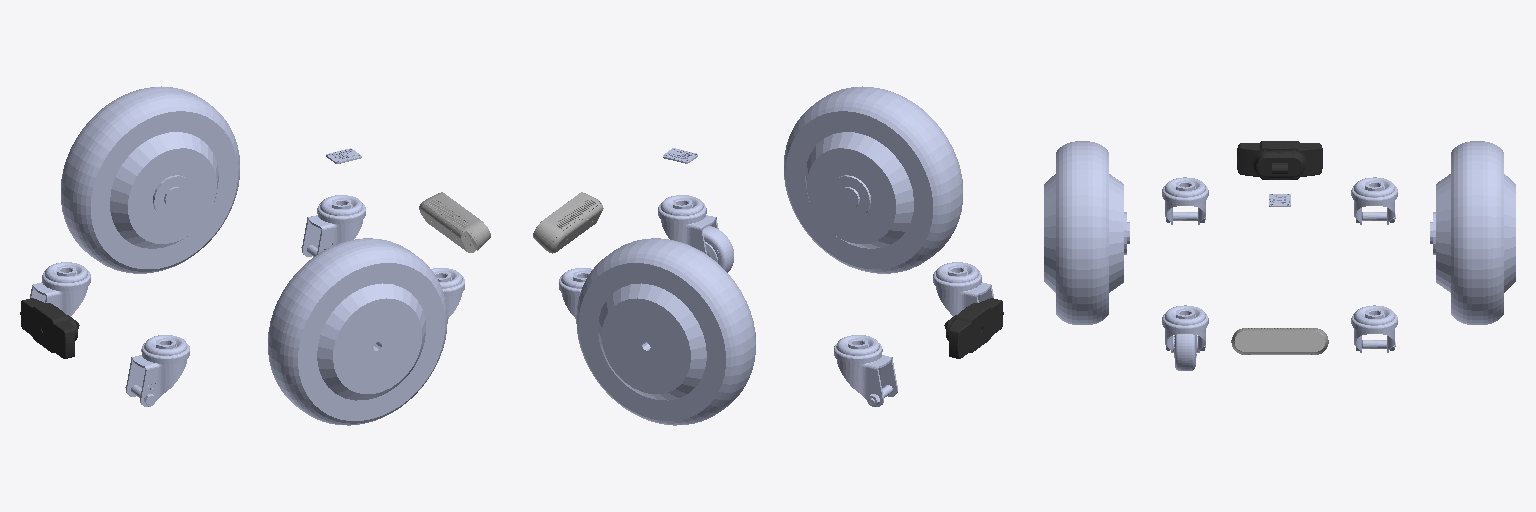
robot.urdf — sdr100_description:
<?xml version="1.0" encoding="utf-8"?>
<!-- This URDF was automatically created by SolidWorks to URDF Exporter! Originally created by [author] ([email redacted]) 
     Commit Version: 1.5.1-0-g916b5db  Build Version: 1.5.7152.31018
     For more information, please see http://wiki.ros.org/sw_urdf_exporter -->
<robot
  name="sdr100_description">
  <link
    name="base_link">
    <inertial>
      <origin
        xyz="-0.027147 0.0017466 0.18466"
        rpy="0 0 0" />
      <mass
        value="14.005" />
      <inertia
        ixx="0.2337"
        ixy="-6.8938E-05"
        ixz="-0.0016382"
        iyy="0.27902"
        iyz="-0.001818"
        izz="0.34815" />
    </inertial>
    <visual>
      <origin
        xyz="0 0 0"
        rpy="0 0 0" />
      <geometry>
        <mesh
          filename="package://sdr100_description/meshes/base_link.STL" />
      </geometry>
      <material
        name="">
        <color
          rgba="0.79216 0.81961 0.93333 1" />
      </material>
    </visual>
    <collision>
      <origin
        xyz="0 0 0"
        rpy="0 0 0" />
      <geometry>
        <mesh
          filename="package://sdr100_description/meshes/base_link.STL" />
      </geometry>
    </collision>
  </link>
  <link
    name="wheel_left_link">
    <inertial>
      <origin
        xyz="-6.7556E-10 -0.0009492 -1.3878E-17"
        rpy="0 0 0" />
      <mass
        value="1.2538" />
      <inertia
        ixx="0.0023229"
        ixy="3.5309E-10"
        ixz="-2.0171E-26"
        iyy="0.003868"
        iyz="2.7319E-20"
        izz="0.0023229" />
    </inertial>
    <visual>
      <origin
        xyz="0 0 0"
        rpy="0 0 0" />
      <geometry>
        <mesh
          filename="package://sdr100_description/meshes/wheel_left_link.STL" />
      </geometry>
      <material
        name="">
        <color
          rgba="0.79216 0.81961 0.93333 1" />
      </material>
    </visual>
    <collision>
      <origin
        xyz="0 0 0"
        rpy="0 0 0" />
      <geometry>
        <mesh
          filename="package://sdr100_description/meshes/wheel_left_link.STL" />
      </geometry>
    </collision>
  </link>
  <joint
    name="wheel_left_joint"
    type="continuous">
    <origin
      xyz="0.000285 0.1826 0.085"
      rpy="0 0 0" />
    <parent
      link="base_link" />
    <child
      link="wheel_left_link" />
    <axis
      xyz="0 -1 0" />
  </joint>
  <link
    name="caster_front_left_arm_link">
    <inertial>
      <origin
        xyz="-0.00649482672502799 0.000107163232262494 -0.0157954586591997"
        rpy="0 0 0" />
      <mass
        value="0.0193614075360235" />
      <inertia
        ixx="6.77325076266181E-06"
        ixy="3.83386204811024E-08"
        ixz="-2.48046541785919E-06"
        iyy="7.75858059543586E-06"
        iyz="5.80212768238095E-08"
        izz="6.45129952483067E-06" />
    </inertial>
    <visual>
      <origin
        xyz="0 0 0"
        rpy="0 0 0" />
      <geometry>
        <mesh
          filename="package://sdr100_description/meshes/caster_front_left_arm_link.STL" />
      </geometry>
      <material
        name="">
        <color
          rgba="0.792156862745098 0.819607843137255 0.933333333333333 1" />
      </material>
    </visual>
    <collision>
      <origin
        xyz="0 0 0"
        rpy="0 0 0" />
      <geometry>
        <mesh
          filename="package://sdr100_description/meshes/caster_front_left_arm_link.STL" />
      </geometry>
    </collision>
  </link>
  <joint
    name="caster_front_left_arm_joint"
    type="continuous">
    <origin
      xyz="0.14 0.0875 0.069065"
      rpy="0 0 0" />
    <parent
      link="base_link" />
    <child
      link="caster_front_left_arm_link" />
    <axis
      xyz="0 0 1" />
  </joint>
  <link
    name="caster_front_left_wheel_link">
    <inertial>
      <origin
        xyz="-3.62185296076678E-06 -1.05965067276337E-09 -1.10000967210033E-07"
        rpy="0 0 0" />
      <mass
        value="0.0299454261301273" />
      <inertia
        ixx="5.62799913174224E-06"
        ixy="3.22789619384136E-13"
        ixz="1.20201132501664E-11"
        iyy="9.66736983771267E-06"
        iyz="7.91227262205239E-09"
        izz="5.62772662909753E-06" />
    </inertial>
    <visual>
      <origin
        xyz="0 0 0"
        rpy="0 0 0" />
      <geometry>
        <mesh
          filename="package://sdr100_description/meshes/caster_front_left_wheel_link.STL" />
      </geometry>
      <material
        name="">
        <color
          rgba="0.792156862745098 0.819607843137255 0.933333333333333 1" />
      </material>
    </visual>
    <collision>
      <origin
        xyz="0 0 0"
        rpy="0 0 0" />
      <geometry>
        <mesh
          filename="package://sdr100_description/meshes/caster_front_left_wheel_link.STL" />
      </geometry>
    </collision>
  </link>
  <joint
    name="caster_front_left_wheel_joint"
    type="continuous">
    <origin
      xyz="-0.025 0 -0.044"
      rpy="0 0 0" />
    <parent
      link="caster_front_left_arm_link" />
    <child
      link="caster_front_left_wheel_link" />
    <axis
      xyz="0 -1 0" />
  </joint>
  <link
    name="caster_rear_left_arm_link">
    <inertial>
      <origin
        xyz="-0.00649482672630869 0.000107163230379348 -0.0157954586595195"
        rpy="0 0 0" />
      <mass
        value="0.0193614075395788" />
      <inertia
        ixx="6.77325076308618E-06"
        ixy="3.83386202093924E-08"
        ixz="-2.48046541788534E-06"
        iyy="7.7585805956462E-06"
        iyz="5.80212767813337E-08"
        izz="6.45129952541281E-06" />
    </inertial>
    <visual>
      <origin
        xyz="0 0 0"
        rpy="0 0 0" />
      <geometry>
        <mesh
          filename="package://sdr100_description/meshes/caster_rear_left_arm_link.STL" />
      </geometry>
      <material
        name="">
        <color
          rgba="0.792156862745098 0.819607843137255 0.933333333333333 1" />
      </material>
    </visual>
    <collision>
      <origin
        xyz="0 0 0"
        rpy="0 0 0" />
      <geometry>
        <mesh
          filename="package://sdr100_description/meshes/caster_rear_left_arm_link.STL" />
      </geometry>
    </collision>
  </link>
  <joint
    name="caster_rear_left_arm_joint"
    type="continuous">
    <origin
      xyz="-0.14 0.0875 0.069065"
      rpy="0 0 0" />
    <parent
      link="base_link" />
    <child
      link="caster_rear_left_arm_link" />
    <axis
      xyz="0 0 1" />
  </joint>
  <link
    name="caster_rear_left_wheel_link">
    <inertial>
      <origin
        xyz="-3.62186601504666E-06 -1.11416892378813E-09 -1.09964967201504E-07"
        rpy="0 0 0" />
      <mass
        value="0.0299454261504666" />
      <inertia
        ixx="5.627999127985E-06"
        ixy="3.07713757024694E-13"
        ixz="1.20307407629901E-11"
        iyy="9.66736983458393E-06"
        iyz="7.91226945256632E-09"
        izz="5.62772663371416E-06" />
    </inertial>
    <visual>
      <origin
        xyz="0 0 0"
        rpy="0 0 0" />
      <geometry>
        <mesh
          filename="package://sdr100_description/meshes/caster_rear_left_wheel_link.STL" />
      </geometry>
      <material
        name="">
        <color
          rgba="0.792156862745098 0.819607843137255 0.933333333333333 1" />
      </material>
    </visual>
    <collision>
      <origin
        xyz="0 0 0"
        rpy="0 0 0" />
      <geometry>
        <mesh
          filename="package://sdr100_description/meshes/caster_rear_left_wheel_link.STL" />
      </geometry>
    </collision>
  </link>
  <joint
    name="caster_rear_left_wheel_joint"
    type="continuous">
    <origin
      xyz="-0.025 0 -0.044"
      rpy="0 0 0" />
    <parent
      link="caster_rear_left_arm_link" />
    <child
      link="caster_rear_left_wheel_link" />
    <axis
      xyz="0 -1 0" />
  </joint>
  <link
    name="wheel_right_link">
    <inertial>
      <origin
        xyz="6.75560992726126E-10 0.000949199764109038 1.38777878078145E-17"
        rpy="0 0 0" />
      <mass
        value="1.25378639817448" />
      <inertia
        ixx="0.00232288623035426"
        ixy="3.53093696035845E-10"
        ixz="2.01706527474568E-26"
        iyy="0.00386801315934892"
        iyz="-2.73191471120094E-20"
        izz="0.00232288623035426" />
    </inertial>
    <visual>
      <origin
        xyz="0 0 0"
        rpy="0 0 0" />
      <geometry>
        <mesh
          filename="package://sdr100_description/meshes/wheel_right_link.STL" />
      </geometry>
      <material
        name="">
        <color
          rgba="0.792156862745098 0.819607843137255 0.933333333333333 1" />
      </material>
    </visual>
    <collision>
      <origin
        xyz="0 0 0"
        rpy="0 0 0" />
      <geometry>
        <mesh
          filename="package://sdr100_description/meshes/wheel_right_link.STL" />
      </geometry>
    </collision>
  </link>
  <joint
    name="wheel_right_joint"
    type="continuous">
    <origin
      xyz="0.000285 -0.1826 0.085"
      rpy="0 0 0" />
    <parent
      link="base_link" />
    <child
      link="wheel_right_link" />
    <axis
      xyz="0 1 0" />
  </joint>
  <link
    name="caster_front_right_arm_link">
    <inertial>
      <origin
        xyz="-0.00649482671553142 0.000107163244502592 -0.0157954586565046"
        rpy="0 0 0" />
      <mass
        value="0.0193614075129611" />
      <inertia
        ixx="6.7732507598518E-06"
        ixy="3.83386225031644E-08"
        ixz="-2.48046541754733E-06"
        iyy="7.75858059364342E-06"
        iyz="5.80212772352693E-08"
        izz="6.45129952065998E-06" />
    </inertial>
    <visual>
      <origin
        xyz="0 0 0"
        rpy="0 0 0" />
      <geometry>
        <mesh
          filename="package://sdr100_description/meshes/caster_front_right_arm_link.STL" />
      </geometry>
      <material
        name="">
        <color
          rgba="0.792156862745098 0.819607843137255 0.933333333333333 1" />
      </material>
    </visual>
    <collision>
      <origin
        xyz="0 0 0"
        rpy="0 0 0" />
      <geometry>
        <mesh
          filename="package://sdr100_description/meshes/caster_front_right_arm_link.STL" />
      </geometry>
    </collision>
  </link>
  <joint
    name="caster_front_right_arm_joint"
    type="continuous">
    <origin
      xyz="0.14 -0.0875 0.069065"
      rpy="0 0 0" />
    <parent
      link="base_link" />
    <child
      link="caster_front_right_arm_link" />
    <axis
      xyz="0 0 1" />
  </joint>
  <link
    name="caster_front_right_wheel_link">
    <inertial>
      <origin
        xyz="-3.6218529607529E-06 -1.05965065888558E-09 -1.10000967178808E-07"
        rpy="0 0 0" />
      <mass
        value="0.0299454261301274" />
      <inertia
        ixx="5.62799913174226E-06"
        ixy="3.22789623759125E-13"
        ixz="1.20201132514845E-11"
        iyy="9.66736983771271E-06"
        iyz="7.91227262205017E-09"
        izz="5.62772662909755E-06" />
    </inertial>
    <visual>
      <origin
        xyz="0 0 0"
        rpy="0 0 0" />
      <geometry>
        <mesh
          filename="package://sdr100_description/meshes/caster_front_right_wheel_link.STL" />
      </geometry>
      <material
        name="">
        <color
          rgba="0.792156862745098 0.819607843137255 0.933333333333333 1" />
      </material>
    </visual>
    <collision>
      <origin
        xyz="0 0 0"
        rpy="0 0 0" />
      <geometry>
        <mesh
          filename="package://sdr100_description/meshes/caster_front_right_wheel_link.STL" />
      </geometry>
    </collision>
  </link>
  <joint
    name="caster_front_right_wheel_joint"
    type="continuous">
    <origin
      xyz="-0.025 0 -0.044"
      rpy="0 0 0" />
    <parent
      link="caster_front_right_arm_link" />
    <child
      link="caster_front_right_wheel_link" />
    <axis
      xyz="0 -1 0" />
  </joint>
  <link
    name="caster_rear_right_arm_link">
    <inertial>
      <origin
        xyz="-0.00649482672507373 0.0001071632322064 -0.0157954586592144"
        rpy="0 0 0" />
      <mass
        value="0.0193614075361476" />
      <inertia
        ixx="6.77325076267316E-06"
        ixy="3.83386204727856E-08"
        ixz="-2.48046541786068E-06"
        iyy="7.75858059544428E-06"
        iyz="5.80212768219384E-08"
        izz="6.45129952484793E-06" />
    </inertial>
    <visual>
      <origin
        xyz="0 0 0"
        rpy="0 0 0" />
      <geometry>
        <mesh
          filename="package://sdr100_description/meshes/caster_rear_right_arm_link.STL" />
      </geometry>
      <material
        name="">
        <color
          rgba="0.792156862745098 0.819607843137255 0.933333333333333 1" />
      </material>
    </visual>
    <collision>
      <origin
        xyz="0 0 0"
        rpy="0 0 0" />
      <geometry>
        <mesh
          filename="package://sdr100_description/meshes/caster_rear_right_arm_link.STL" />
      </geometry>
    </collision>
  </link>
  <joint
    name="caster_rear_right_arm_joint"
    type="continuous">
    <origin
      xyz="-0.14 -0.0875 0.069065"
      rpy="0 0 0" />
    <parent
      link="base_link" />
    <child
      link="caster_rear_right_arm_link" />
    <axis
      xyz="0 0 1" />
  </joint>
  <link
    name="caster_rear_right_wheel_link">
    <inertial>
      <origin
        xyz="-3.62186601504666E-06 -1.11416892378813E-09 -1.09964967145992E-07"
        rpy="0 0 0" />
      <mass
        value="0.0299454261504666" />
      <inertia
        ixx="5.62799912798501E-06"
        ixy="3.07713759603956E-13"
        ixz="1.20307407653522E-11"
        iyy="9.66736983458394E-06"
        iyz="7.91226945256643E-09"
        izz="5.62772663371417E-06" />
    </inertial>
    <visual>
      <origin
        xyz="0 0 0"
        rpy="0 0 0" />
      <geometry>
        <mesh
          filename="package://sdr100_description/meshes/caster_rear_right_wheel_link.STL" />
      </geometry>
      <material
        name="">
        <color
          rgba="0.792156862745098 0.819607843137255 0.933333333333333 1" />
      </material>
    </visual>
    <collision>
      <origin
        xyz="0 0 0"
        rpy="0 0 0" />
      <geometry>
        <mesh
          filename="package://sdr100_description/meshes/caster_rear_right_wheel_link.STL" />
      </geometry>
    </collision>
  </link>
  <joint
    name="caster_rear_right_wheel_joint"
    type="continuous">
    <origin
      xyz="-0.025 0 -0.044"
      rpy="0 0 0" />
    <parent
      link="caster_rear_right_arm_link" />
    <child
      link="caster_rear_right_wheel_link" />
    <axis
      xyz="0 -1 0" />
  </joint>
  <link
    name="lidar_link">
    <inertial>
      <origin
        xyz="-0.000148098936093097 -3.20589061074877E-06 -0.0125826292828435"
        rpy="0 0 0" />
      <mass
        value="0.0481184252470374" />
      <inertia
        ixx="3.45484471926661E-05"
        ixy="-2.64745439730844E-09"
        ixz="-7.2542289688968E-08"
        iyy="3.46541300559693E-05"
        iyz="-1.62784619966956E-09"
        izz="5.23974422205502E-05" />
    </inertial>
    <visual>
      <origin
        xyz="0 0 0"
        rpy="0 0 0" />
      <geometry>
        <mesh
          filename="package://sdr100_description/meshes/lidar_link.STL" />
      </geometry>
      <material
        name="">
        <color
          rgba="0.498039215686275 0.498039215686275 0.498039215686275 1" />
      </material>
    </visual>
    <collision>
      <origin
        xyz="0 0 0"
        rpy="0 0 0" />
      <geometry>
        <mesh
          filename="package://sdr100_description/meshes/lidar_link.STL" />
      </geometry>
    </collision>
  </link>
  <joint
    name="lidar_joint"
    type="fixed">
    <origin
      xyz="0 0 0.29442"
      rpy="0 0 0" />
    <parent
      link="base_link" />
    <child
      link="lidar_link" />
    <axis
      xyz="0 0 0" />
  </joint>
  <link
    name="depthcam_link">
    <inertial>
      <origin
        xyz="0.00150773539014118 0.00140604320859637 0.0124766080720145"
        rpy="0 0 0" />
      <mass
        value="0.0364722960761443" />
      <inertia
        ixx="2.34030027480876E-05"
        ixy="2.10299133958588E-07"
        ixz="1.01558544663176E-08"
        iyy="3.5060662845294E-06"
        iyz="1.71385186514591E-09"
        izz="2.36116372449809E-05" />
    </inertial>
    <visual>
      <origin
        xyz="0 0 0"
        rpy="0 0 0" />
      <geometry>
        <mesh
          filename="package://sdr100_description/meshes/depthcam_link.STL" />
      </geometry>
      <material
        name="">
        <color
          rgba="0.701960784313725 0.701960784313725 0.701960784313725 1" />
      </material>
    </visual>
    <collision>
      <origin
        xyz="0 0 0"
        rpy="0 0 0" />
      <geometry>
        <mesh
          filename="package://sdr100_description/meshes/depthcam_link.STL" />
      </geometry>
    </collision>
  </link>
  <joint
    name="depthcam_joint"
    type="fixed">
    <origin
      xyz="0.20804 0 0.057456"
      rpy="0 -0.43633 0" />
    <parent
      link="base_link" />
    <child
      link="depthcam_link" />
    <axis
      xyz="0 0 0" />
  </joint>
  <link
    name="rgb_camera_link">
    <inertial>
      <origin
        xyz="-4.96614485655883E-10 -3.57408547202454E-13 -0.0100253875802096"
        rpy="0 0 0" />
      <mass
        value="0.0605927782252049" />
      <inertia
        ixx="6.99191996508856E-06"
        ixy="-1.38979846014596E-11"
        ixz="4.60006097227063E-13"
        iyy="2.54302596557141E-05"
        iyz="5.09059527310496E-17"
        izz="2.70334159831627E-05" />
    </inertial>
    <visual>
      <origin
        xyz="0 0 0"
        rpy="0 0 0" />
      <geometry>
        <mesh
          filename="package://sdr100_description/meshes/rgb_camera_link.STL" />
      </geometry>
      <material
        name="">
        <color
          rgba="0.250980392156863 0.250980392156863 0.250980392156863 1" />
      </material>
    </visual>
    <collision>
      <origin
        xyz="0 0 0"
        rpy="0 0 0" />
      <geometry>
        <mesh
          filename="package://sdr100_description/meshes/rgb_camera_link.STL" />
      </geometry>
    </collision>
  </link>
  <joint
    name="rgb_camera_joint"
    type="fixed">
    <origin
      xyz="-0.21467 0 0.063165"
      rpy="-1.5708 0 1.5708" />
    <parent
      link="base_link" />
    <child
      link="rgb_camera_link" />
    <axis
      xyz="0 0 0" />
  </joint>
  <link
    name="imu_link">
    <inertial>
      <origin
        xyz="-6.93505865298899E-05 2.10656642645062E-05 -0.00172272577964397"
        rpy="0 0 0" />
      <mass
        value="0.000911356888660494" />
      <inertia
        ixx="2.85410348210609E-08"
        ixy="-2.22197427857067E-10"
        ixz="7.87903579180148E-11"
        iyy="4.99346433608486E-08"
        iyz="-4.13194761846756E-11"
        izz="7.78569805080493E-08" />
    </inertial>
    <visual>
      <origin
        xyz="0 0 0"
        rpy="0 0 0" />
      <geometry>
        <mesh
          filename="package://sdr100_description/meshes/imu_link.STL" />
      </geometry>
      <material
        name="">
        <color
          rgba="0.792156862745098 0.819607843137255 0.933333333333333 1" />
      </material>
    </visual>
    <collision>
      <origin
        xyz="0 0 0"
        rpy="0 0 0" />
      <geometry>
        <mesh
          filename="package://sdr100_description/meshes/imu_link.STL" />
      </geometry>
    </collision>
  </link>
  <joint
    name="imu_joint"
    type="fixed">
    <origin
      xyz="0.0915 -0.0003 0.16272"
      rpy="0 0 0" />
    <parent
      link="base_link" />
    <child
      link="imu_link" />
    <axis
      xyz="0 0 0" />
  </joint>
</robot>

--- Facts derived from the render (not from the file) ---
Views: 3 orthographic renders of the robot side by side, from view 1: azimuth 30°, elevation 25°; view 2: azimuth 150°, elevation 25°; view 3: azimuth 270°, elevation 25°.
Robot: sdr100_description — 15 links, 14 joints (10 continuous, 4 fixed); root link base_link; default pose: every joint at zero.
Visible links, largest first — view 1: wheel_right_link, wheel_left_link, caster_rear_right_arm_link, caster_front_left_arm_link, rgb_camera_link, depthcam_link, caster_rear_left_arm_link, caster_front_right_arm_link; view 2: wheel_left_link, wheel_right_link, caster_rear_left_arm_link, rgb_camera_link, depthcam_link, caster_front_right_arm_link, caster_rear_right_arm_link, caster_front_right_wheel_link, caster_front_left_arm_link; view 3: wheel_left_link, wheel_right_link, rgb_camera_link, depthcam_link, caster_rear_left_arm_link, caster_front_left_arm_link, caster_rear_right_arm_link, caster_front_right_arm_link, caster_front_right_wheel_link.
Link boxes in pixels (<box>): wheel_right_link: <box>268,238,447,425</box>; wheel_left_link: <box>61,86,239,273</box>; caster_rear_right_arm_link: <box>125,335,189,406</box>; caster_front_left_arm_link: <box>301,195,365,256</box>; rgb_camera_link: <box>20,298,79,358</box>; depthcam_link: <box>419,192,490,252</box>; caster_rear_left_arm_link: <box>30,262,90,316</box>; caster_front_right_arm_link: <box>431,268,464,318</box>; wheel_left_link: <box>576,238,755,425</box>; wheel_right_link: <box>784,86,962,273</box>; caster_rear_left_arm_link: <box>834,335,897,406</box>; rgb_camera_link: <box>944,298,1003,358</box>; depthcam_link: <box>533,192,603,253</box>; caster_front_right_arm_link: <box>658,195,718,254</box>; caster_rear_right_arm_link: <box>933,262,993,316</box>; caster_front_right_wheel_link: <box>703,226,733,272</box>; caster_front_left_arm_link: <box>559,268,592,318</box>; wheel_left_link: <box>1430,141,1515,324</box>; wheel_right_link: <box>1044,141,1129,324</box>; rgb_camera_link: <box>1237,141,1322,179</box>; depthcam_link: <box>1231,328,1328,354</box>; caster_rear_left_arm_link: <box>1351,177,1397,224</box>; caster_front_left_arm_link: <box>1351,305,1397,352</box>; caster_rear_right_arm_link: <box>1162,177,1208,224</box>; caster_front_right_arm_link: <box>1162,305,1208,352</box>; caster_front_right_wheel_link: <box>1173,334,1197,370</box>.
Size in the robot's own frame: 0.435 by 0.4354 by 0.1699 metres.
10 mesh visuals loaded from 15 distinct referenced files (10 binary STL); not drawn: 5 (reference not matched to a file when rendering).